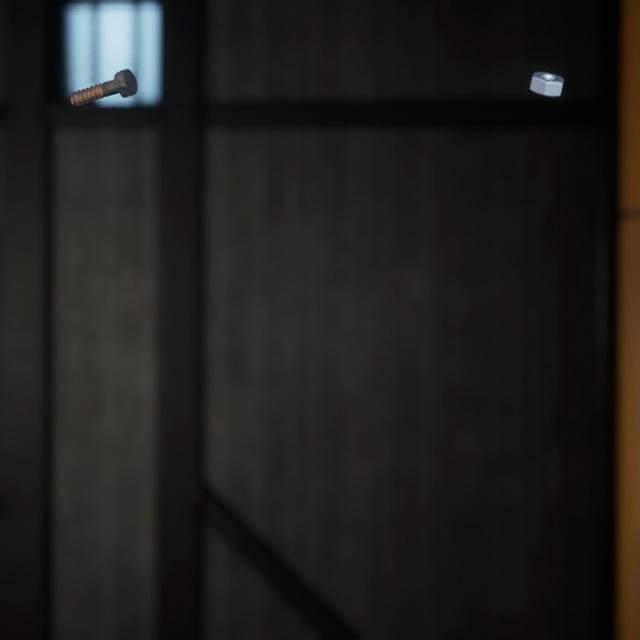bolt: (65, 52, 141, 98)
nut: (525, 56, 568, 90)
